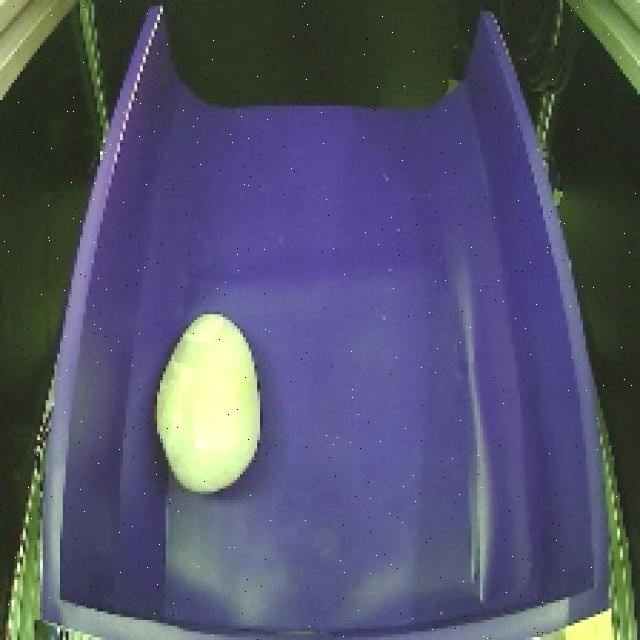cobbles: (139, 308, 275, 500)
